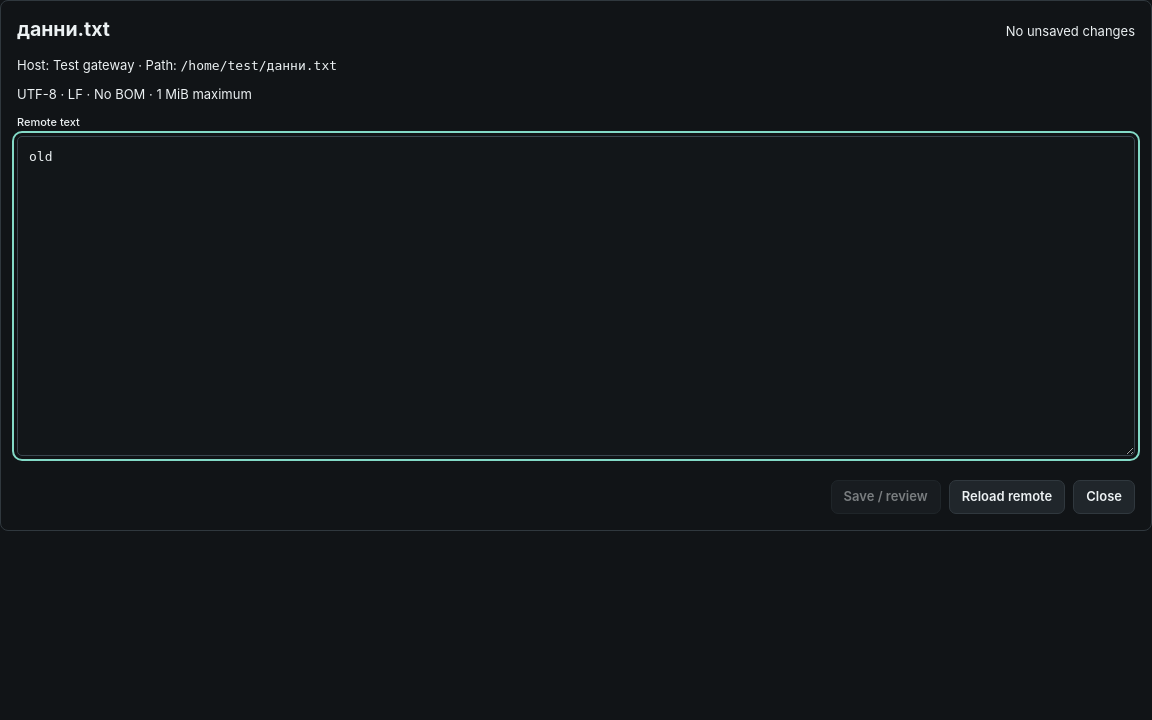
Test: remote text editor authority and interaction › discards P1 and permits a fresh P2 review of the unchanged dirty text without reload
This screenshot has width=1152, height=720.
Type "new" into the text box labelled "Remote text" at (576, 296), box [17, 136, 1135, 456]
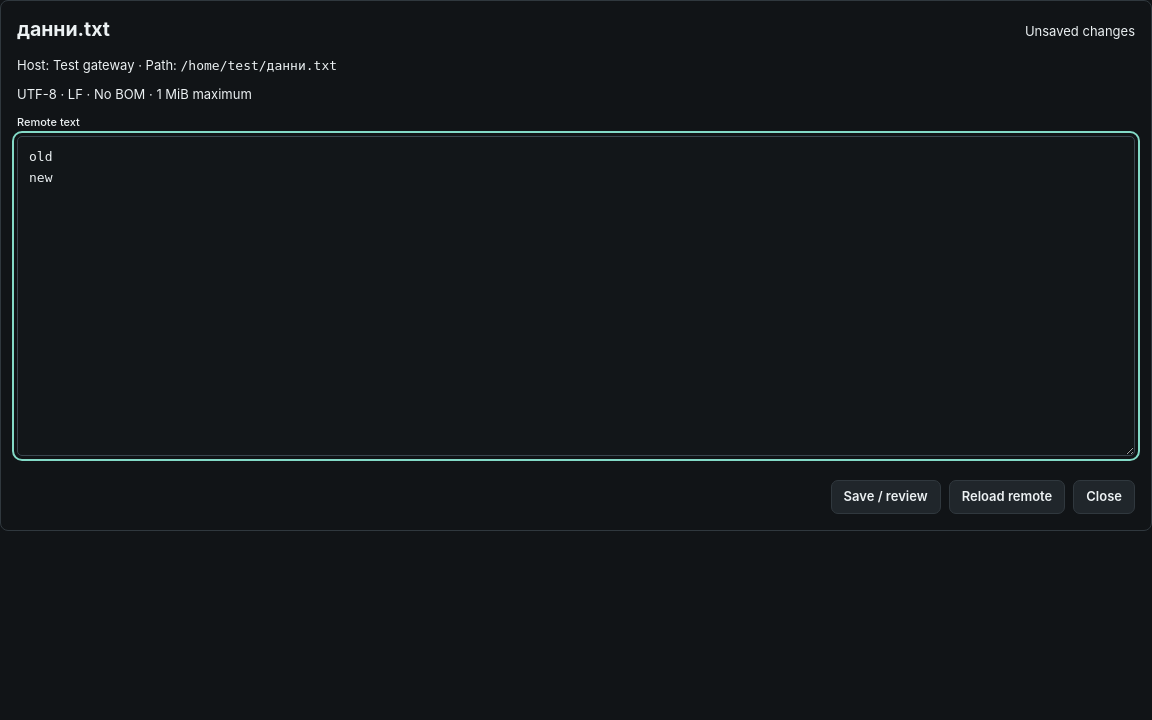
Click the button "Save / review" at (886, 497), box [831, 480, 941, 514]
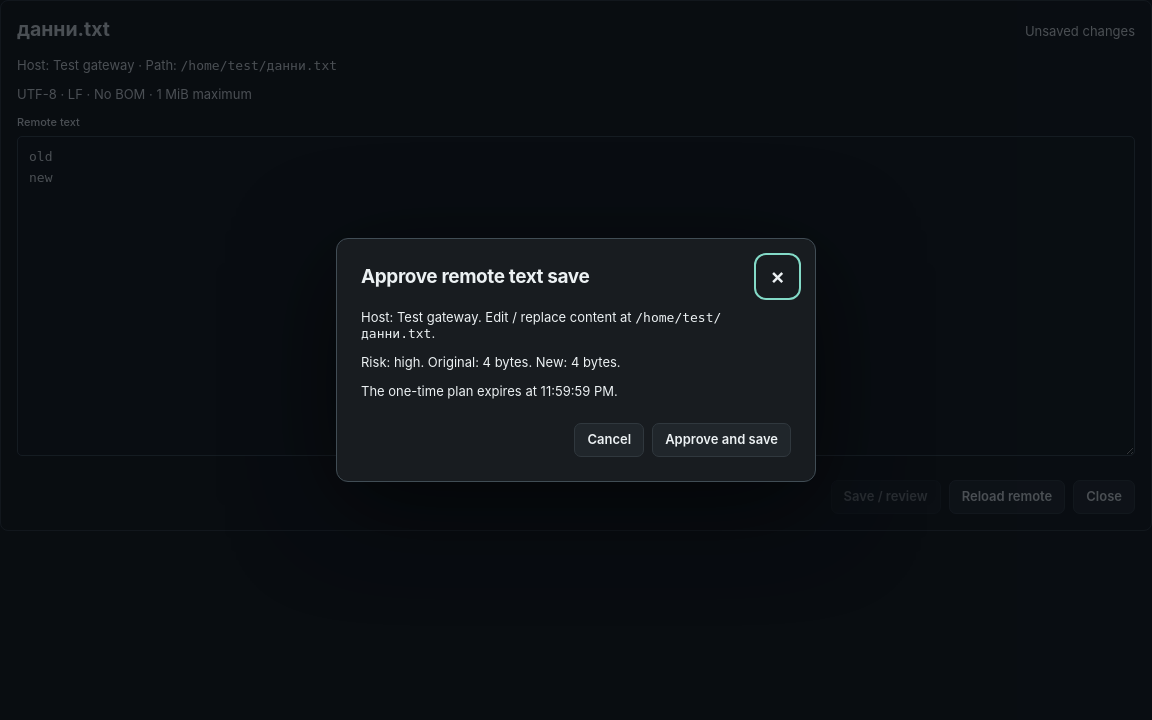
expect the dialog "Approve remote text save" is shown: met, box [336, 238, 816, 482]
Click the button "Cancel" at (609, 440), box [574, 423, 644, 457]
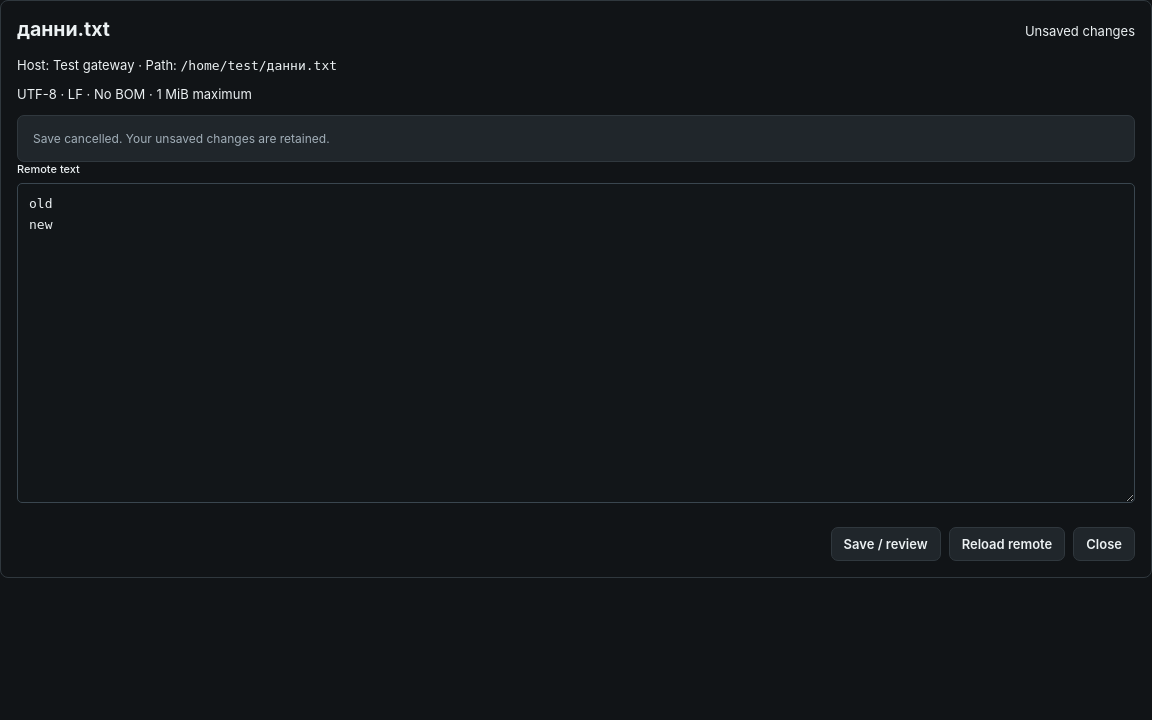
expect the message reads "Save cancelled. Your unsaved changes are retained.": met, box [33, 131, 330, 146]
expect the button "Save / review" is enabled: met
Click the button "Save / review" at (886, 544), box [831, 527, 941, 561]
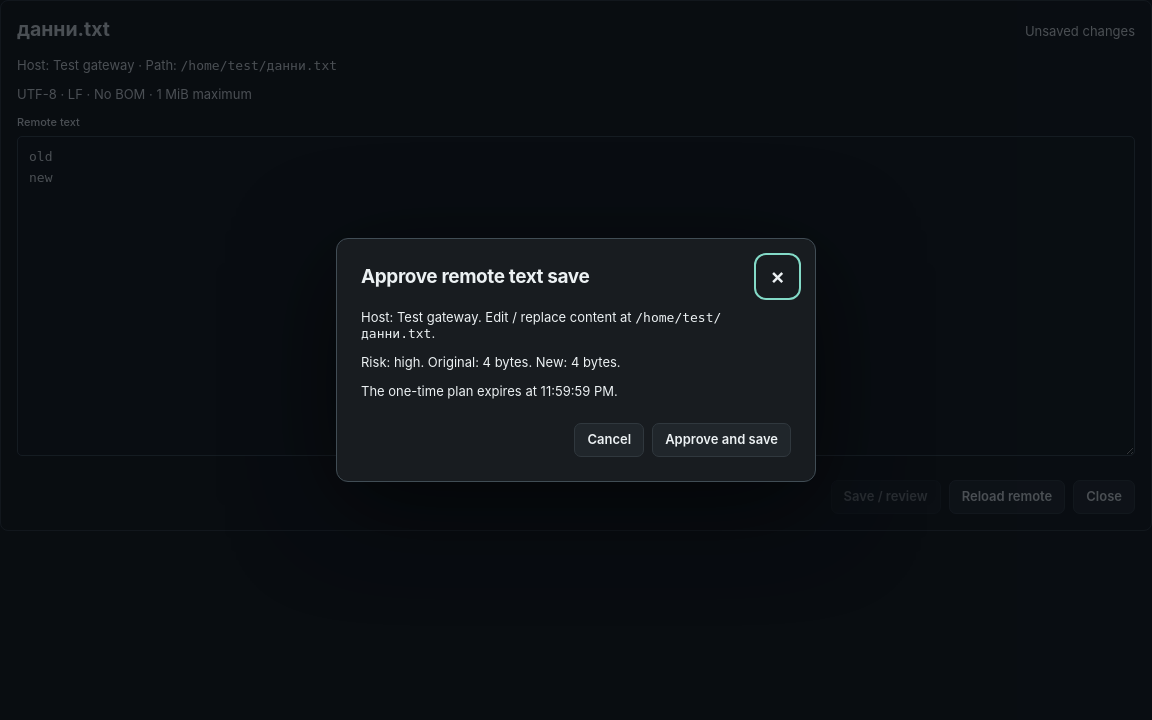
expect the dialog "Approve remote text save" is shown: met, box [336, 238, 816, 482]
